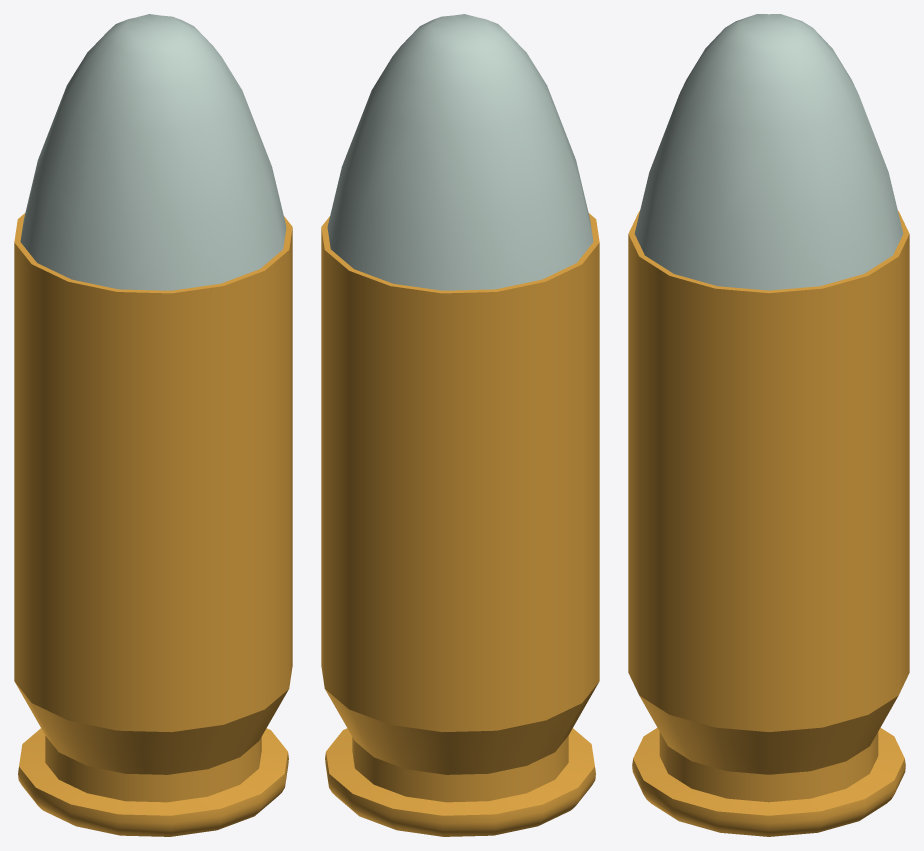
Rendered from ammo3-food.fbx.
3 renders of one model, left to right at view 1: azimuth 30°, elevation 25°; view 2: azimuth 150°, elevation 25°; view 3: azimuth 270°, elevation 25°, orthographic.
Visible parts, largest first — view 1: ammo3-food; view 2: ammo3-food; view 3: ammo3-food.
Part boxes in pixels (x1=…): ammo3-food: x1=14, y1=14, x2=292, y2=836; ammo3-food: x1=321, y1=14, x2=599, y2=836; ammo3-food: x1=628, y1=14, x2=909, y2=836.
Size of the model in its own units: 0.0151 by 0.0449 by 0.0151.
